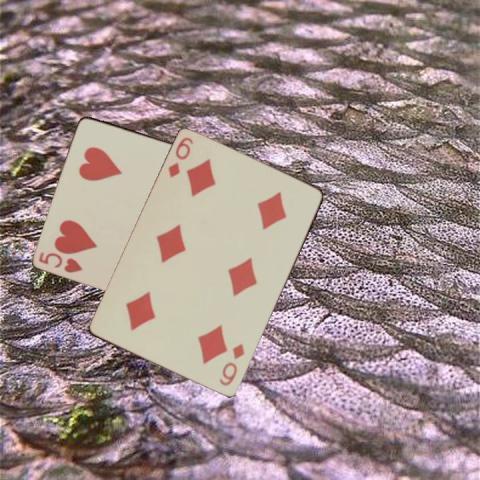5h: (36, 248, 85, 275)
6d: (216, 341, 246, 388), (165, 134, 195, 180)
